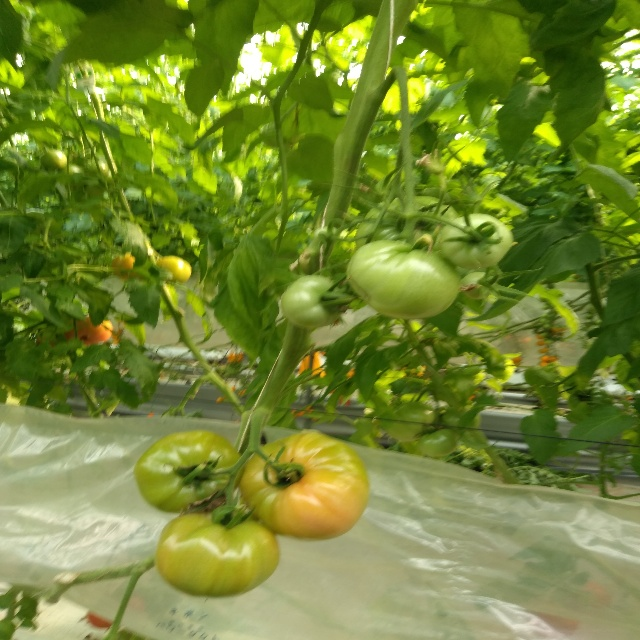b_green: (156, 511, 280, 597), (134, 430, 247, 513), (346, 240, 460, 319), (355, 196, 461, 270), (440, 213, 514, 269), (281, 276, 341, 328), (459, 272, 499, 299)
b_half_ripened: (238, 432, 372, 541)
